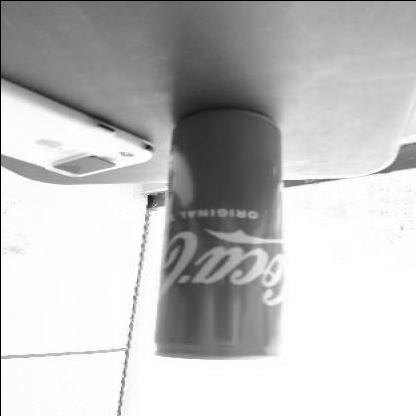alumunium_can: (152, 105, 286, 363)
